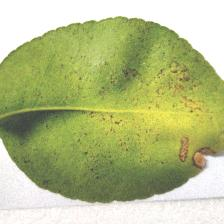canker: (96, 55, 217, 181)
